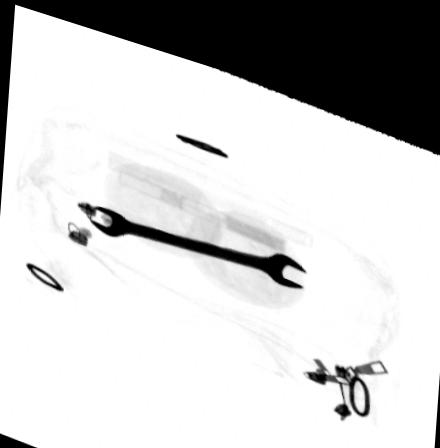Wrench: (87, 199, 310, 271)
